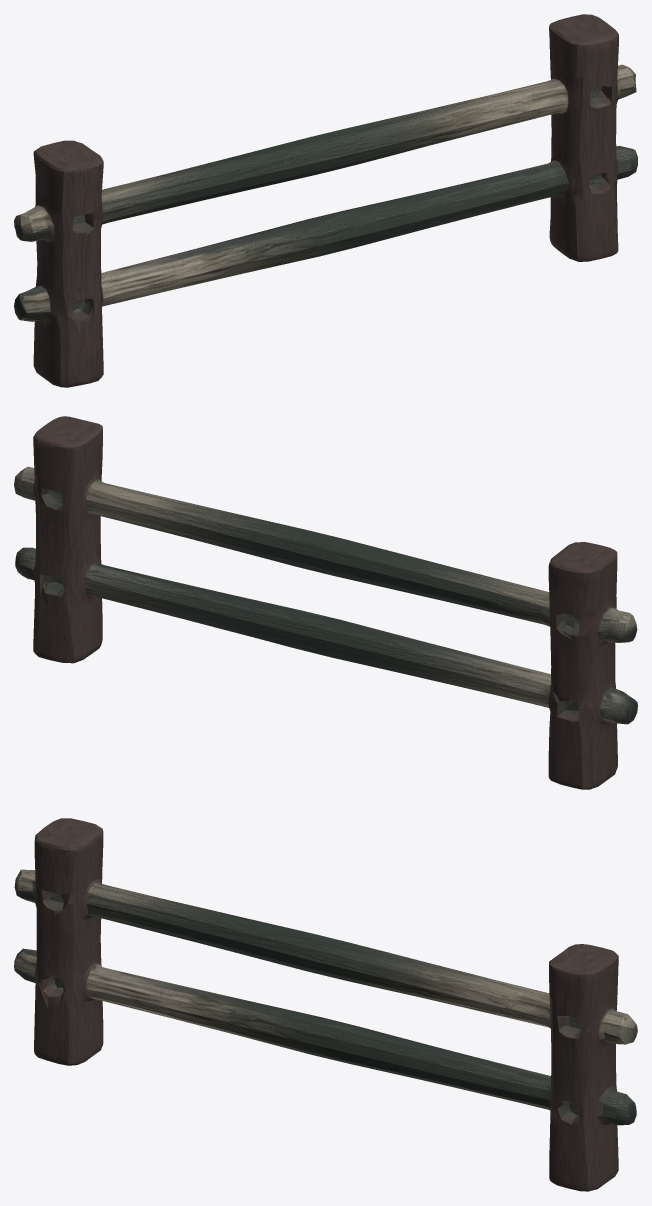
The model's file is ok-fence-post-meshy.glb.
3 renders of one model, top to bottom at view 1: azimuth 30°, elevation 25°; view 2: azimuth 150°, elevation 25°; view 3: azimuth 330°, elevation 25°, orthographic.
Size of the model in its own units: 1.9 by 0.6458 by 0.1765.
1 material, 1 textured.
